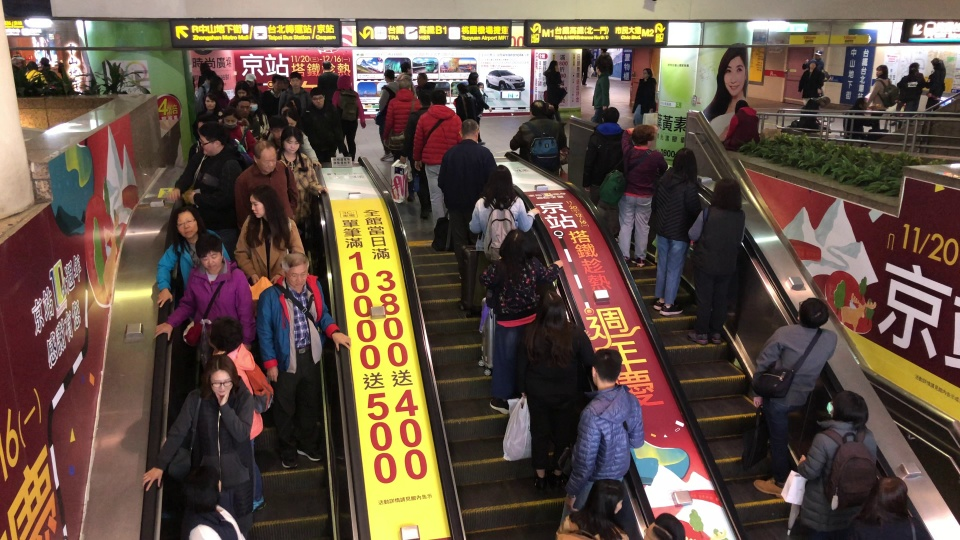person_head: (245, 184, 294, 256), (578, 476, 628, 540), (183, 463, 224, 511), (171, 204, 208, 252), (827, 391, 869, 433), (200, 354, 239, 396), (482, 164, 517, 209), (206, 316, 243, 352), (498, 230, 532, 269), (535, 289, 566, 331), (281, 250, 311, 291), (196, 230, 224, 273), (589, 350, 622, 385), (798, 296, 831, 329), (877, 477, 910, 509), (711, 176, 742, 209), (646, 514, 684, 540), (197, 122, 225, 156), (254, 141, 279, 176), (671, 147, 697, 178), (281, 126, 305, 156), (456, 116, 480, 145), (270, 115, 288, 147), (631, 126, 650, 149), (221, 108, 238, 131), (528, 100, 546, 121), (309, 87, 325, 108), (232, 78, 250, 96), (604, 107, 621, 126), (429, 87, 446, 106), (236, 96, 251, 116), (247, 91, 260, 113), (416, 83, 428, 106), (203, 93, 218, 110), (210, 76, 224, 94), (336, 75, 352, 90), (289, 71, 301, 90), (196, 111, 208, 130), (271, 72, 282, 92), (399, 73, 411, 91), (735, 99, 749, 114), (856, 95, 867, 114), (284, 110, 297, 126), (280, 99, 293, 113), (382, 68, 394, 83), (876, 64, 887, 80), (454, 81, 467, 94), (415, 73, 427, 87), (289, 92, 297, 111), (595, 62, 607, 74), (321, 61, 333, 73), (40, 57, 50, 71), (205, 70, 215, 84), (245, 73, 255, 87), (199, 60, 208, 75), (908, 62, 919, 74), (13, 56, 23, 69), (931, 57, 939, 73), (26, 61, 40, 70), (643, 68, 652, 82), (819, 96, 830, 107), (400, 61, 410, 72), (283, 73, 289, 89), (548, 60, 557, 70), (808, 59, 817, 69), (814, 48, 822, 58), (471, 74, 478, 83), (599, 47, 607, 53)
person_vbox: (258, 248, 352, 470), (751, 296, 839, 506), (156, 351, 251, 540), (516, 289, 603, 481), (487, 229, 569, 415), (438, 113, 508, 317), (562, 347, 644, 520), (786, 386, 875, 538), (198, 314, 263, 515), (466, 163, 539, 319), (687, 172, 745, 346), (414, 84, 473, 252), (653, 144, 707, 317), (235, 183, 313, 295), (156, 202, 231, 310), (168, 108, 248, 207), (176, 224, 255, 320), (167, 123, 248, 210), (614, 121, 659, 269), (277, 125, 329, 247), (173, 462, 248, 540), (233, 139, 294, 227), (404, 81, 440, 224), (581, 107, 625, 218), (557, 474, 630, 540), (508, 103, 569, 181), (854, 476, 919, 540), (332, 73, 367, 165), (303, 88, 336, 166), (385, 74, 413, 165), (281, 109, 322, 169), (375, 65, 399, 165), (219, 104, 259, 160), (471, 69, 495, 148), (895, 61, 925, 121), (867, 64, 892, 135), (541, 57, 567, 125), (725, 99, 759, 151), (633, 64, 657, 127), (798, 58, 824, 106), (800, 95, 833, 132), (260, 69, 283, 122), (247, 92, 271, 142), (926, 57, 946, 116), (451, 77, 476, 124), (843, 95, 867, 143), (802, 48, 831, 87), (592, 60, 609, 116), (268, 115, 289, 160), (287, 69, 309, 110), (39, 57, 62, 94), (194, 93, 223, 121), (228, 77, 253, 109), (208, 75, 230, 107), (316, 58, 338, 89), (594, 47, 615, 79), (232, 97, 253, 129), (196, 69, 217, 100), (25, 59, 41, 93), (414, 73, 431, 104), (581, 48, 593, 89), (397, 61, 413, 89), (13, 53, 25, 88), (241, 71, 258, 91), (198, 61, 211, 85)
